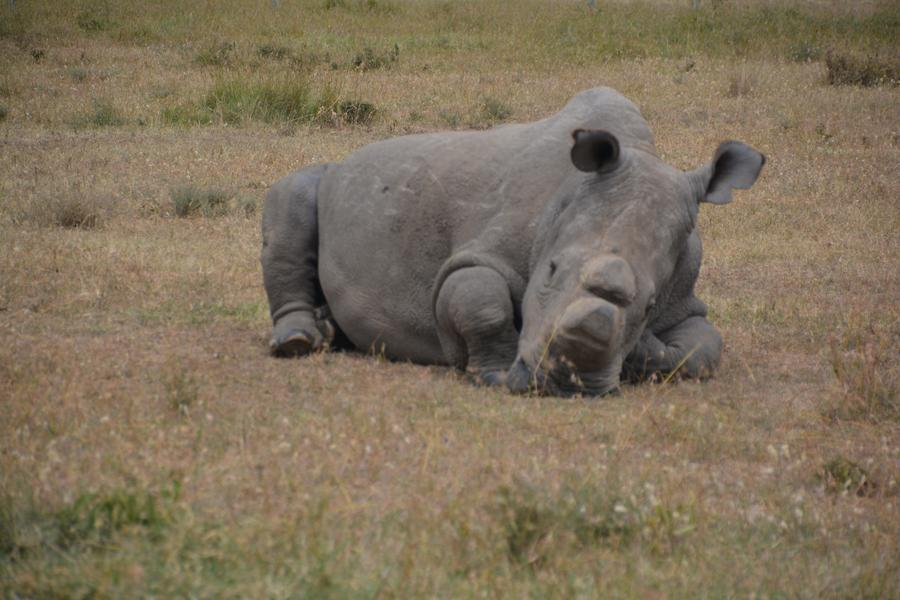rhino: (244, 96, 728, 359)
